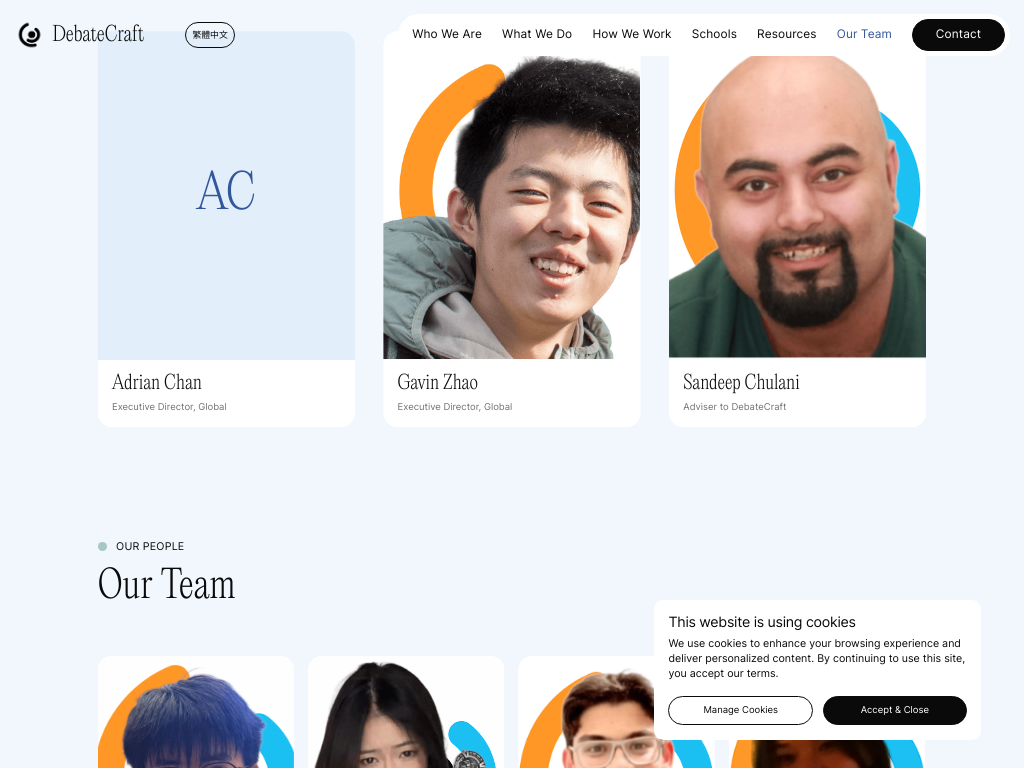
Test: a failed current-member portrait becomes initials while its biography stays accessible
(page scrolled)
Expected: the picture named "Portrait unavailable for Adrian Chan" reads "AC", x1=197 y1=167 x2=256 y2=223
Click the button with aria-label "View biography for Adrian Chan" at [157, 384], box x1=112 y1=374 x2=202 y2=395
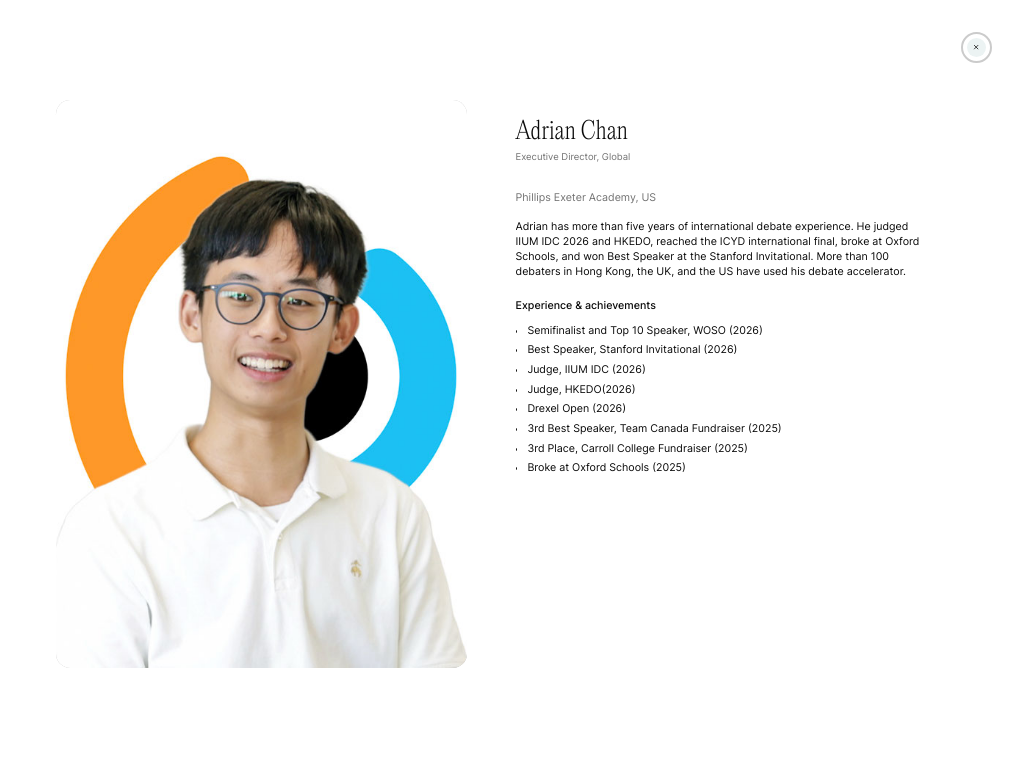
Now the dialog "Adrian Chan" is shown
